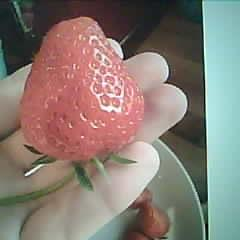straw-ripe: (21, 19, 144, 156)
